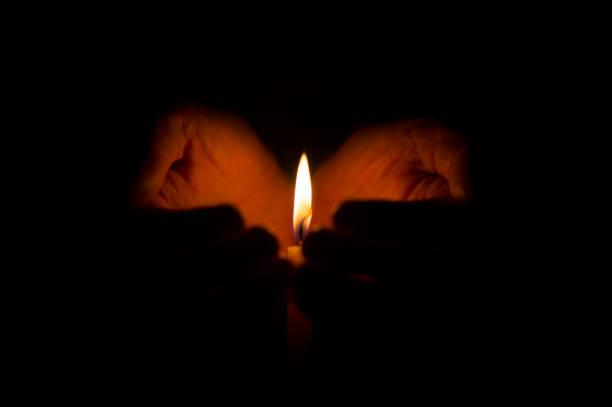Fire: (289, 149, 315, 238)
